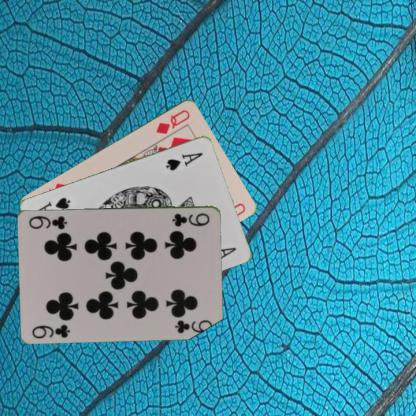9c: (30, 322, 72, 340), (170, 210, 211, 228)
As: (163, 150, 204, 172)
Qd: (153, 107, 191, 136)
